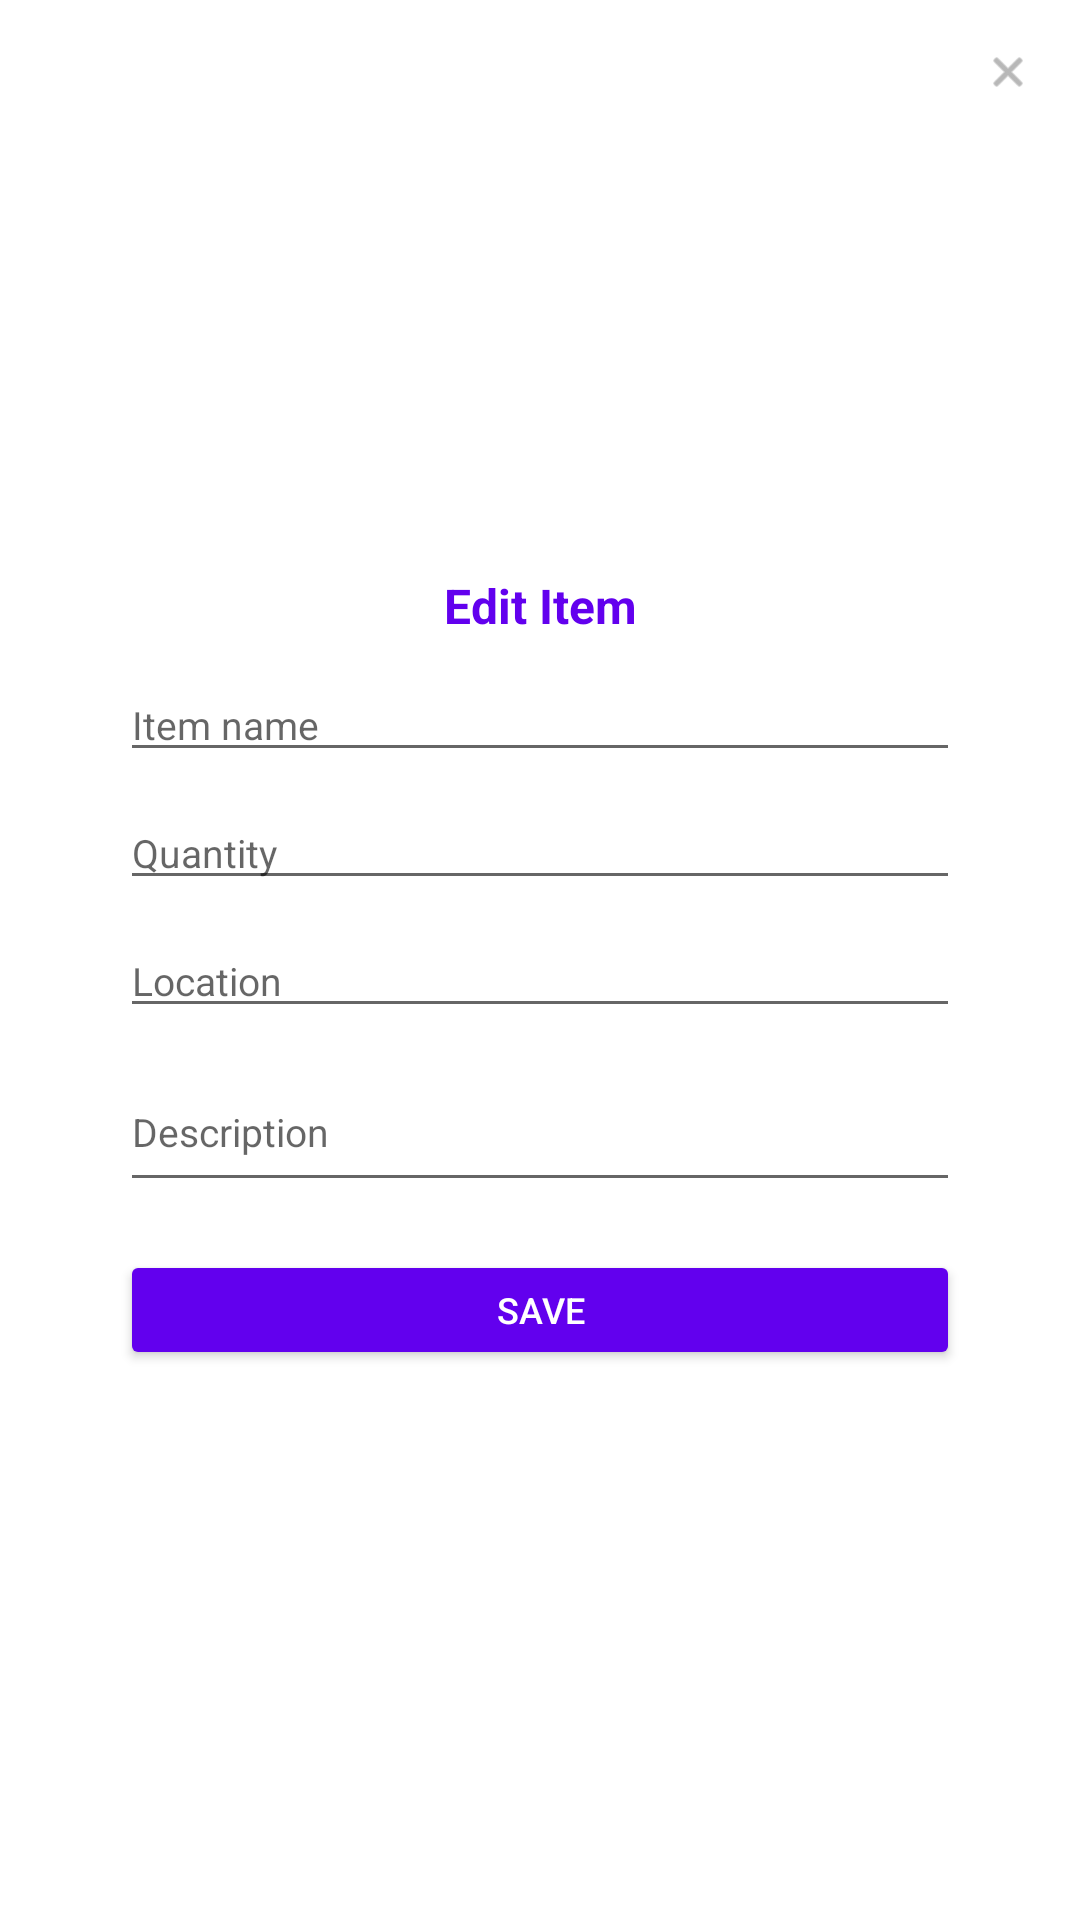

Icons on this 1080*1920 Android screen, each with the point to tap as point (x, y):
close clear cancel: point (1008, 72)
